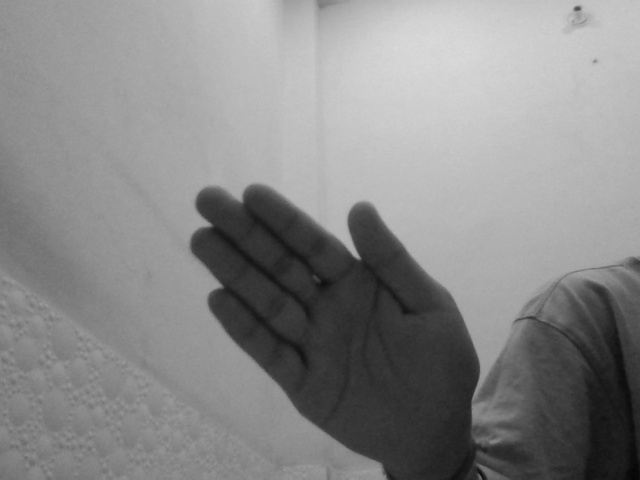Hello: (187, 183, 485, 464)
